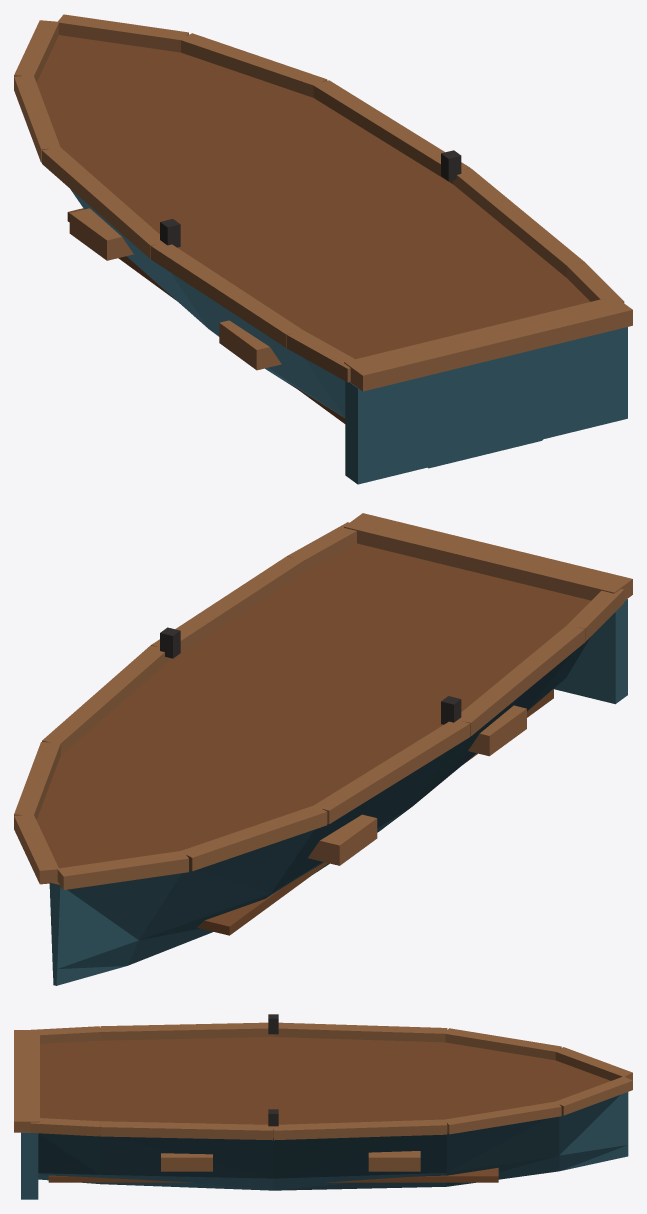
Rendered from Rowboat.glb.
3 renders of one model, top to bottom at view 1: azimuth 30°, elevation 25°; view 2: azimuth 150°, elevation 25°; view 3: azimuth 270°, elevation 25°, orthographic. The views are drawn at different scales.
Visible parts, largest first — view 1: Body; view 2: Body; view 3: Body.
Boxes of the visible parts, left/top/right/bottom form: Body: left=14, top=14, right=632, bottom=484; Body: left=14, top=513, right=632, bottom=985; Body: left=14, top=1014, right=632, bottom=1199.
Size of the model in its own units: 2.96 by 1.32 by 7.15.
